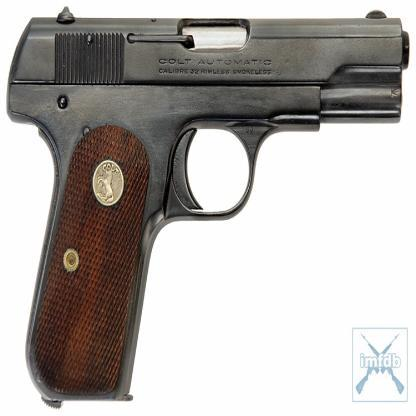gun: (3, 7, 416, 397)
